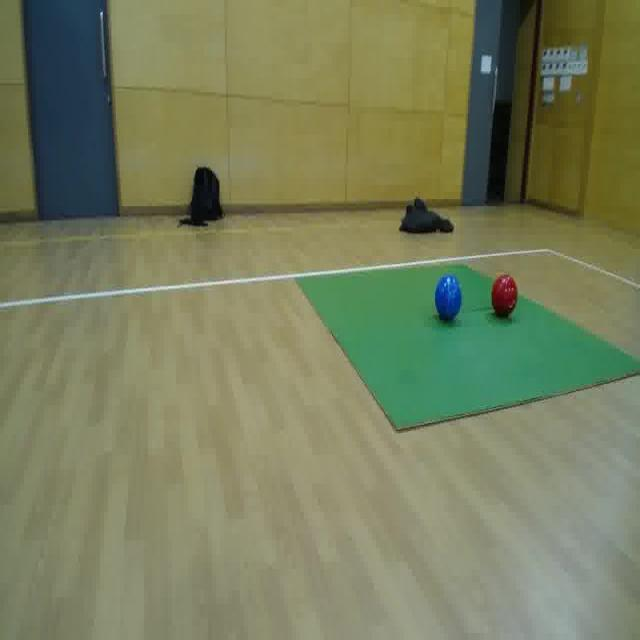blue_ball: (433, 271, 463, 325)
red_ball: (490, 272, 519, 320)
